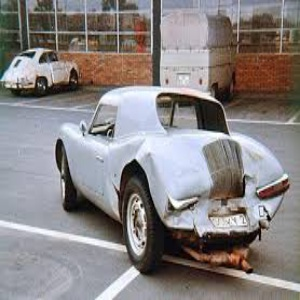door: (81, 132, 194, 197)
